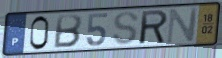0: (28, 15, 51, 51)
5: (85, 11, 109, 48)
B: (52, 14, 84, 50)
N: (165, 6, 200, 45)
R: (139, 9, 170, 46)
S: (111, 10, 140, 47)
